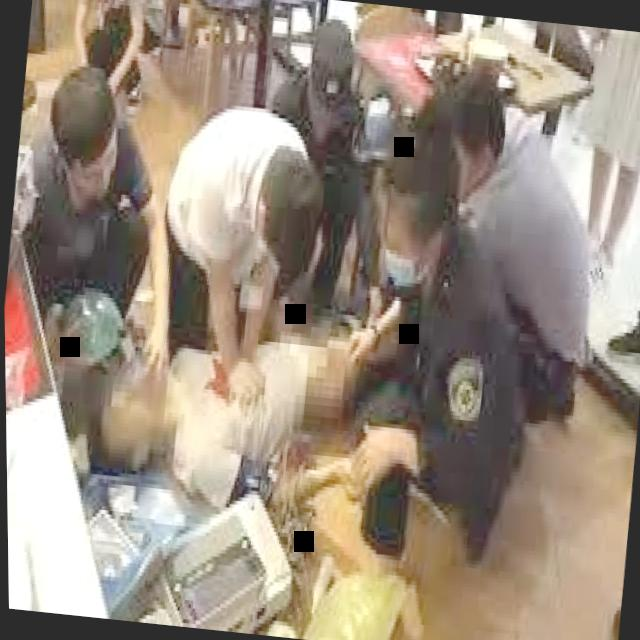Fall-Detected: (60, 241, 416, 517)
